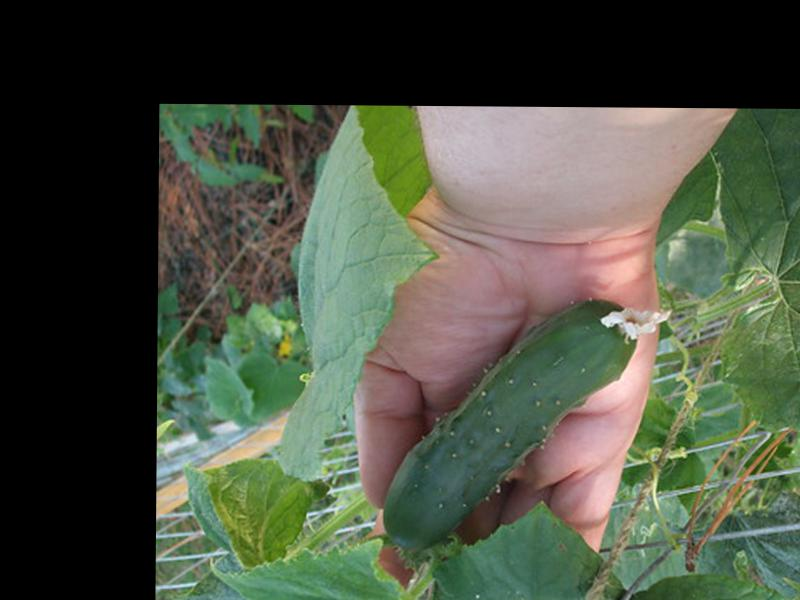Cucumber: (385, 298, 673, 552)
